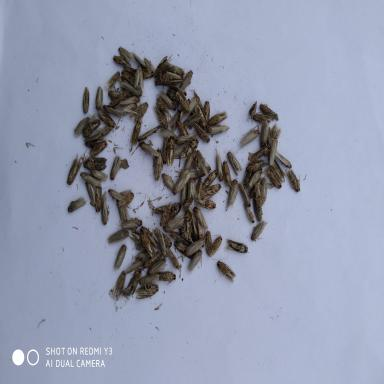pbw: (233, 123, 260, 155), (64, 148, 85, 188), (231, 181, 258, 212), (170, 166, 193, 200), (191, 204, 210, 244), (130, 138, 161, 162), (207, 231, 226, 269), (283, 166, 306, 197), (133, 280, 160, 306), (158, 202, 184, 229), (267, 156, 290, 186), (262, 124, 282, 158), (151, 51, 173, 81), (222, 234, 252, 256), (152, 142, 168, 183), (78, 117, 104, 142), (246, 141, 272, 166), (134, 121, 161, 145), (223, 176, 241, 212), (108, 269, 129, 299), (217, 160, 236, 193), (192, 194, 218, 218), (169, 238, 196, 261), (112, 241, 132, 272), (156, 84, 178, 112), (176, 210, 193, 246), (190, 85, 207, 121), (95, 106, 119, 131), (182, 161, 212, 181), (120, 69, 144, 94), (206, 104, 230, 129), (127, 117, 145, 150), (263, 166, 284, 194), (215, 256, 236, 284), (183, 234, 204, 262), (162, 56, 186, 80), (88, 134, 111, 159), (158, 67, 184, 89), (74, 168, 100, 190), (152, 100, 171, 130), (96, 187, 111, 225), (249, 216, 268, 246), (212, 143, 225, 186), (180, 93, 198, 124), (241, 158, 265, 181), (270, 148, 293, 172), (69, 112, 93, 135), (115, 187, 136, 213), (161, 246, 182, 272), (186, 247, 207, 273), (153, 225, 176, 248), (113, 97, 137, 119), (257, 100, 279, 124), (66, 194, 88, 218), (198, 182, 222, 204), (223, 148, 245, 172), (138, 223, 158, 249), (125, 254, 145, 280), (107, 224, 130, 246), (174, 88, 192, 116), (152, 269, 180, 287), (114, 197, 132, 225), (187, 172, 201, 208), (119, 214, 144, 234), (91, 180, 104, 218), (78, 83, 92, 118), (127, 48, 149, 70), (129, 100, 149, 124), (180, 138, 200, 162), (267, 134, 280, 170), (104, 69, 122, 95), (255, 176, 268, 212), (246, 112, 275, 128), (178, 67, 195, 94), (200, 167, 219, 191), (118, 93, 143, 111), (245, 93, 259, 125), (108, 151, 122, 183), (165, 132, 177, 169), (104, 184, 126, 204), (251, 201, 270, 224), (142, 247, 161, 270), (199, 96, 213, 127), (135, 269, 159, 287), (166, 227, 190, 245), (155, 126, 179, 144), (194, 122, 211, 147), (148, 197, 173, 214), (172, 130, 198, 146), (165, 108, 183, 131), (114, 42, 132, 65), (160, 168, 177, 192), (205, 120, 229, 137), (147, 256, 166, 277), (180, 148, 198, 170), (108, 54, 130, 72), (195, 220, 208, 250), (106, 90, 126, 109), (83, 181, 98, 206), (166, 82, 188, 99), (87, 155, 110, 171), (242, 203, 256, 229), (87, 164, 107, 182), (136, 60, 148, 90), (247, 171, 258, 203), (240, 166, 254, 191), (92, 84, 104, 113), (202, 228, 213, 258), (186, 110, 204, 128), (92, 124, 113, 139), (84, 136, 106, 150), (142, 56, 156, 76)
